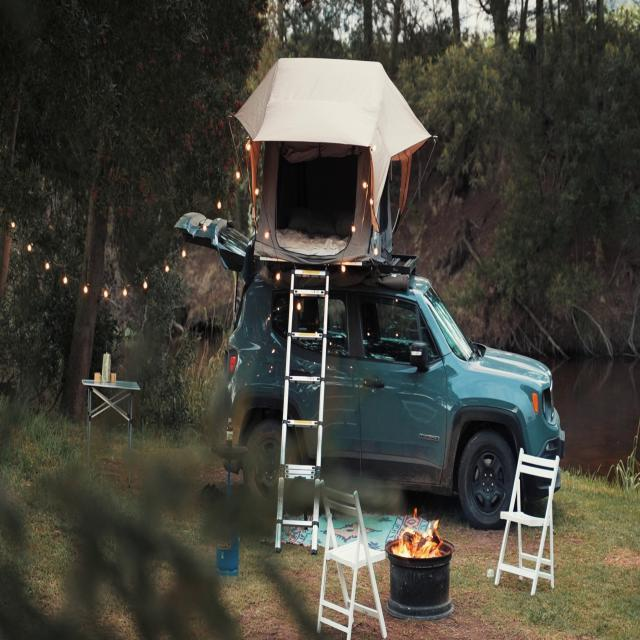Fire: (393, 503, 443, 560)
